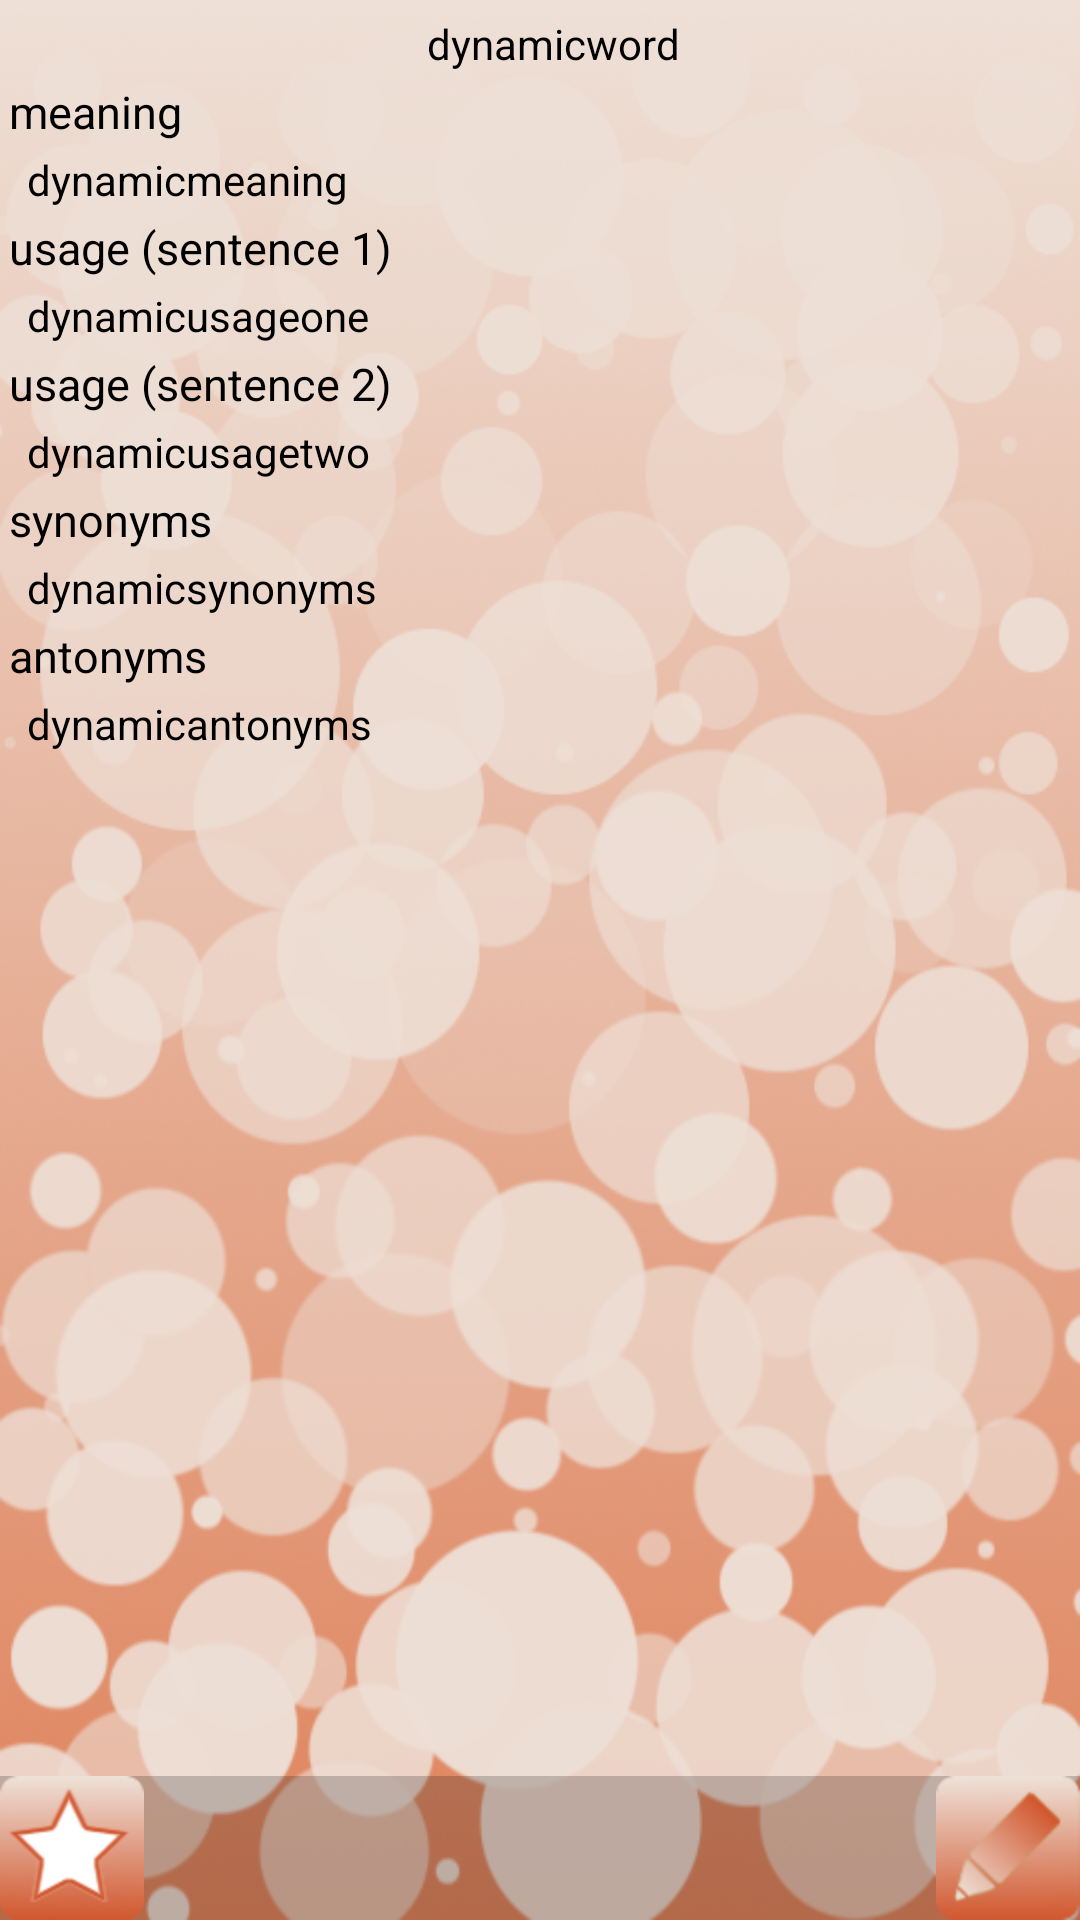

Icon click points for this 1080*1920 phone screenshot, format (x,y):
edit: (1008,1848)
